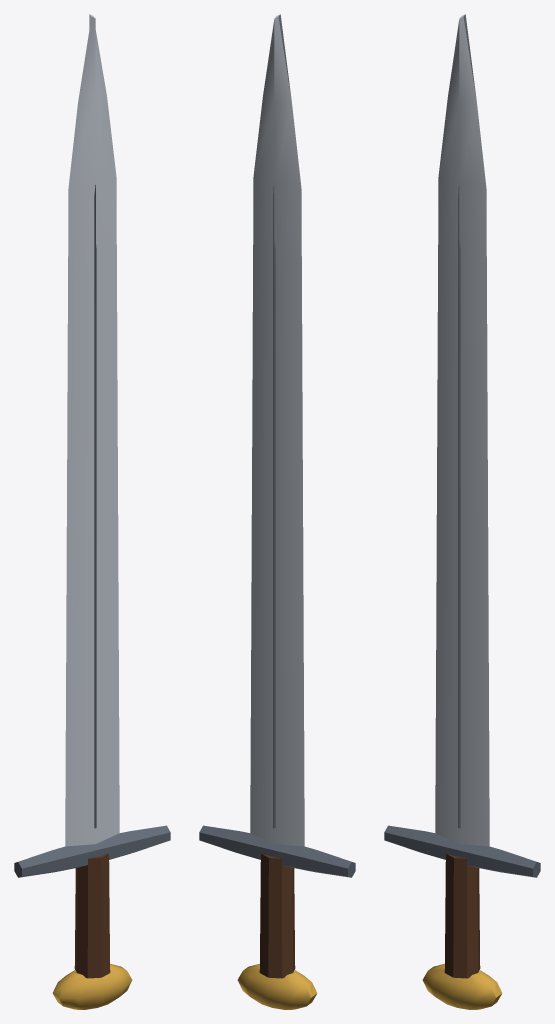
File: OneHandSword.fbx
3 renders of one model, left to right at view 1: azimuth 30°, elevation 25°; view 2: azimuth 150°, elevation 25°; view 3: azimuth 330°, elevation 25°, orthographic.
Parts seen in each view (by area): view 1: OneHandSword; view 2: OneHandSword; view 3: OneHandSword.
Boxes of the visible parts, <box> form: OneHandSword: <box>14,14,170,1009</box>; OneHandSword: <box>199,14,355,1009</box>; OneHandSword: <box>384,14,540,1009</box>.
Bounding box in the file's own units: 0.15 × 0.9519 × 0.0364.
